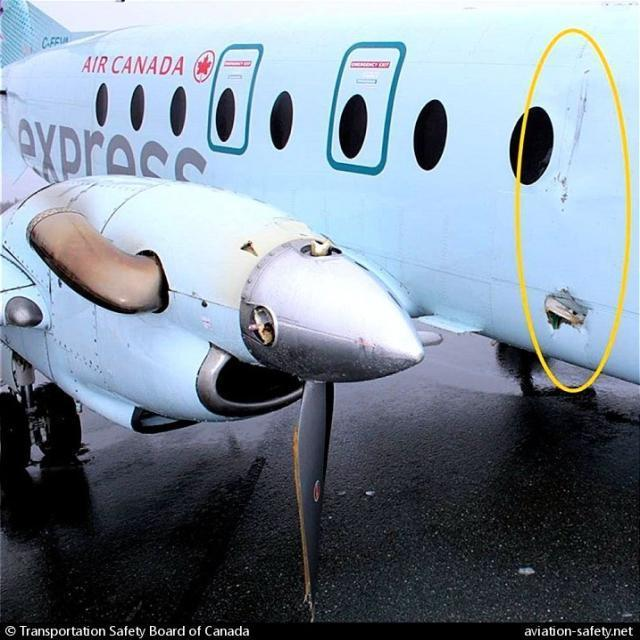crack: (544, 289, 589, 331), (545, 318, 565, 341)
dent: (580, 323, 597, 366)
